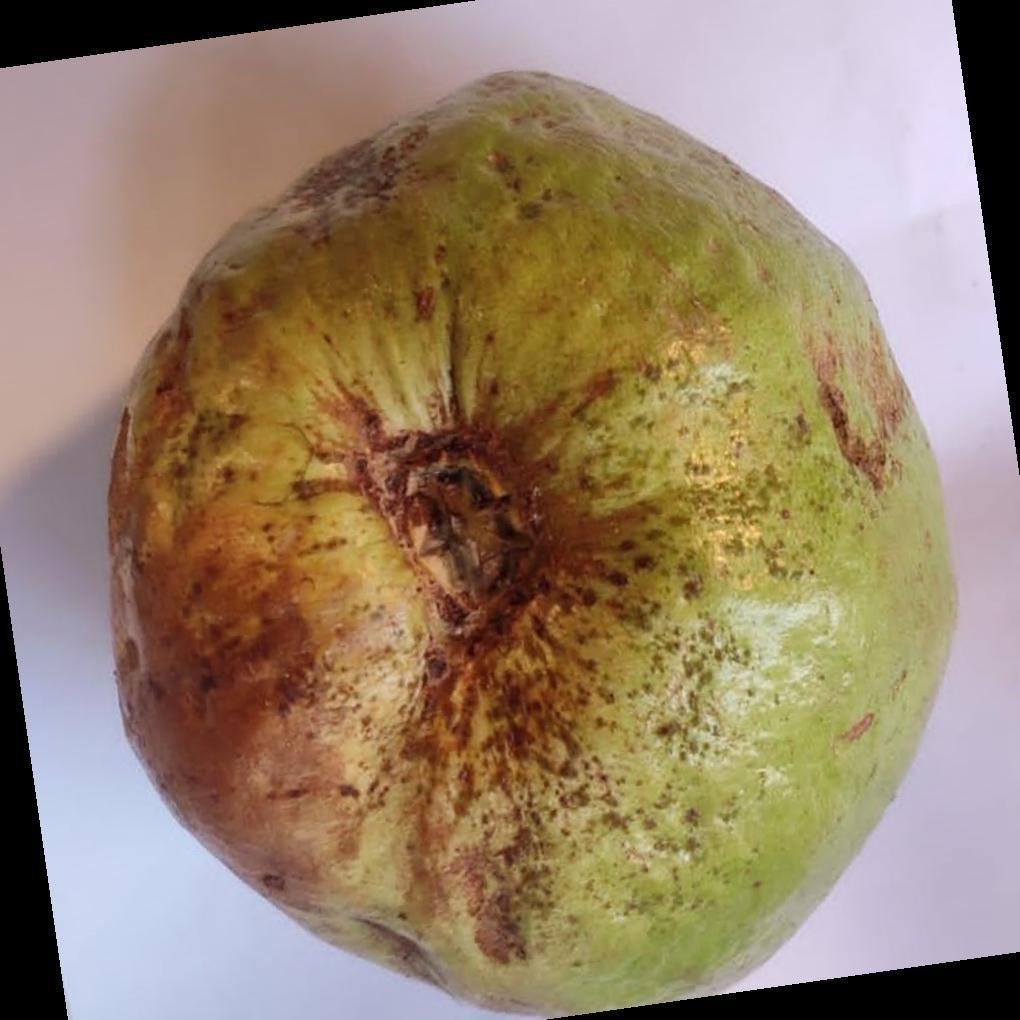FreshOrange: (105, 71, 961, 1020)
